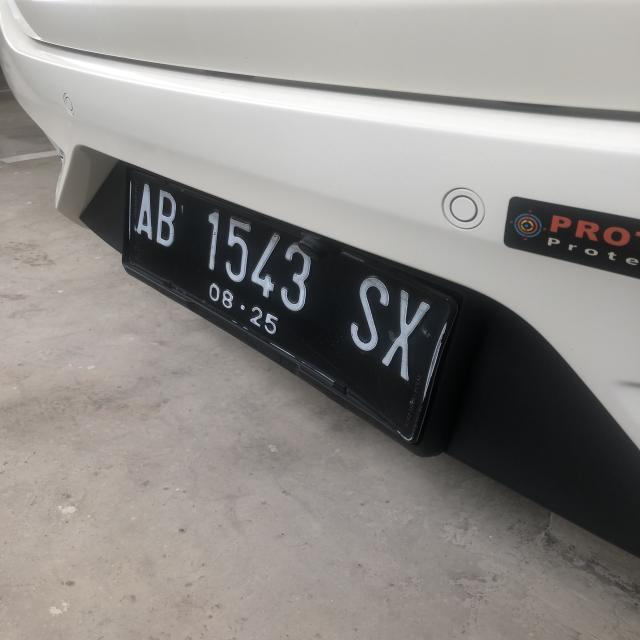1: (204, 210, 225, 274)
3: (280, 240, 315, 312)
4: (246, 230, 284, 298)
5: (224, 219, 253, 282)
A: (136, 182, 154, 242)
B: (152, 186, 178, 248)
S: (349, 278, 388, 350)
X: (385, 291, 433, 382)
